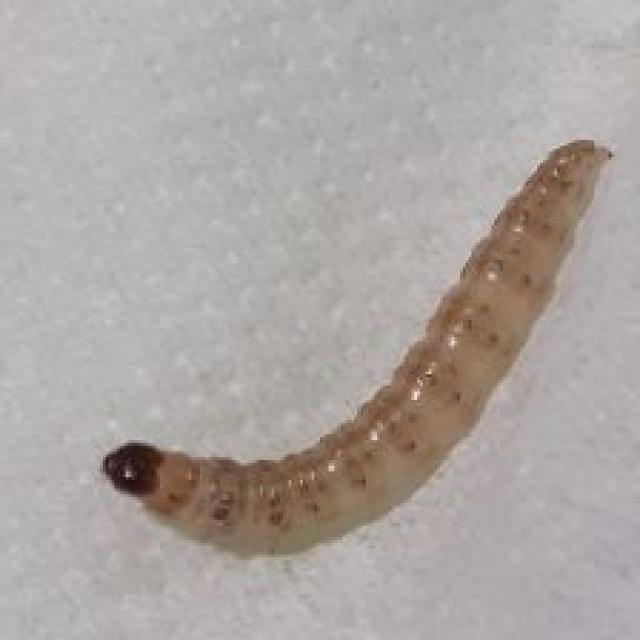white mucus: (61, 131, 640, 533)
